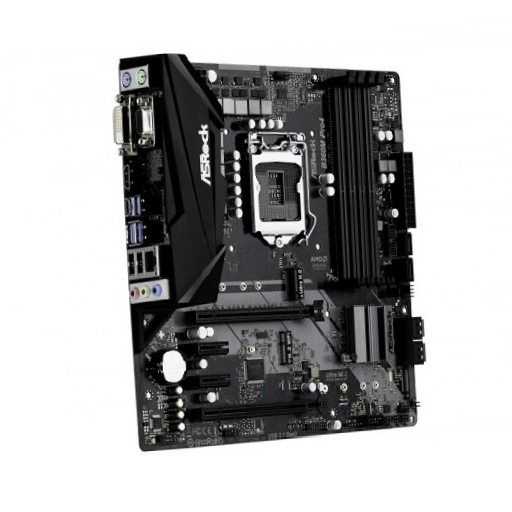CPU: (243, 131, 309, 247)
GPU: (186, 301, 329, 326), (191, 395, 337, 419)
MOTHERBOARD: (114, 54, 426, 451)
RAM: (323, 72, 388, 290)
SSD: (280, 267, 304, 300), (278, 329, 293, 364)
